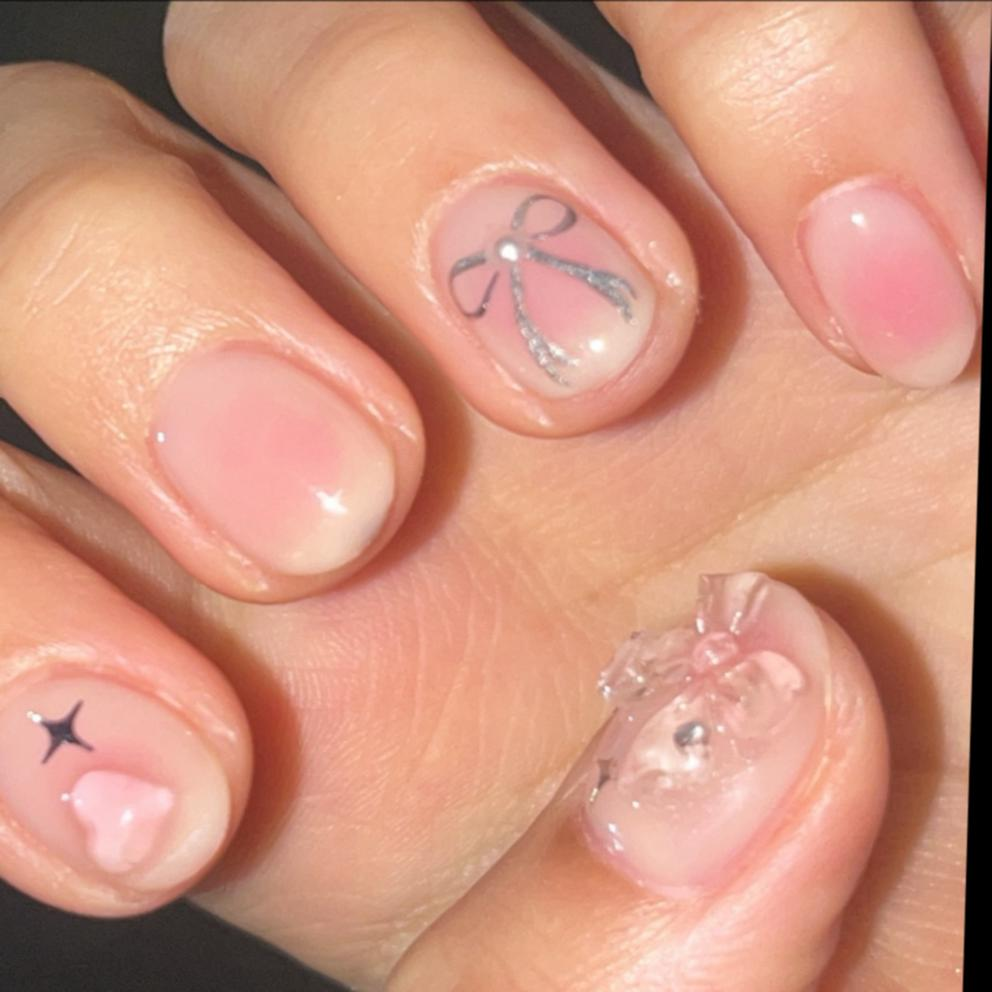nail: (0, 59, 438, 606), (788, 174, 984, 390)
